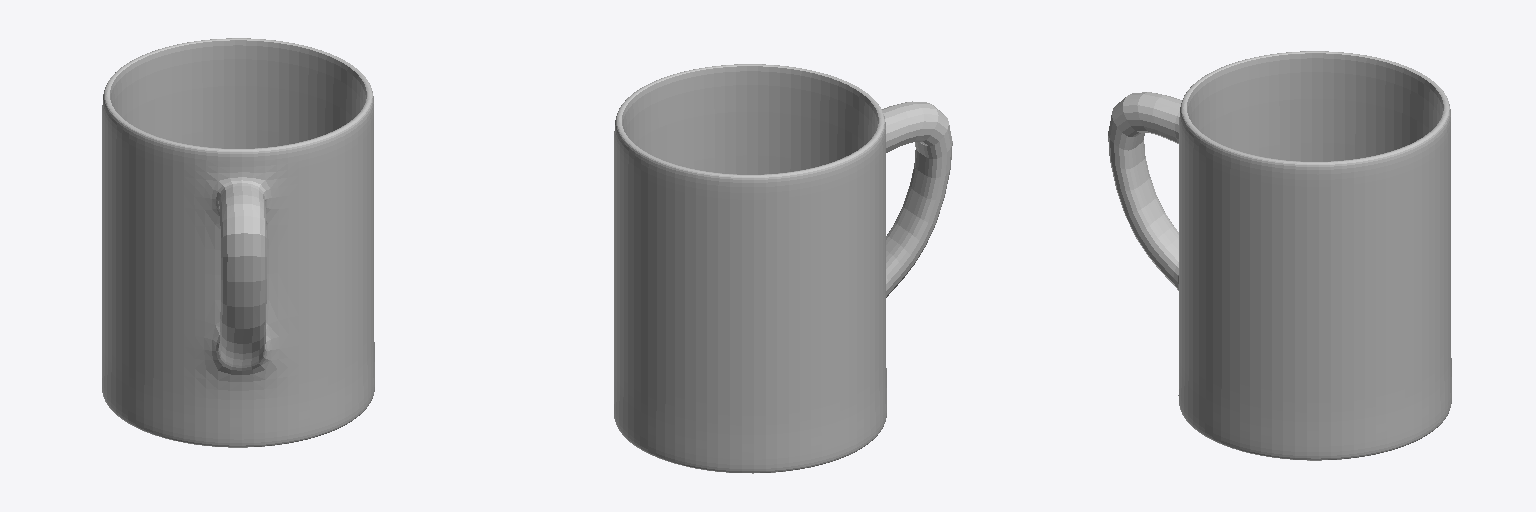
File: mug.obj
3 renders of one model, left to right at view 1: azimuth 30°, elevation 25°; view 2: azimuth 150°, elevation 25°; view 3: azimuth 270°, elevation 25°, orthographic.
Visible parts, largest first — view 1: uploads_files_106890_mug(1); view 2: uploads_files_106890_mug(1); view 3: uploads_files_106890_mug(1).
Boxes of the visible parts, box(x1,y1,x2,y2) form: uploads_files_106890_mug(1): box(102, 38, 374, 447); uploads_files_106890_mug(1): box(614, 64, 952, 473); uploads_files_106890_mug(1): box(1108, 51, 1451, 460).
Size of the model in its own units: 399 by 479 by 501.